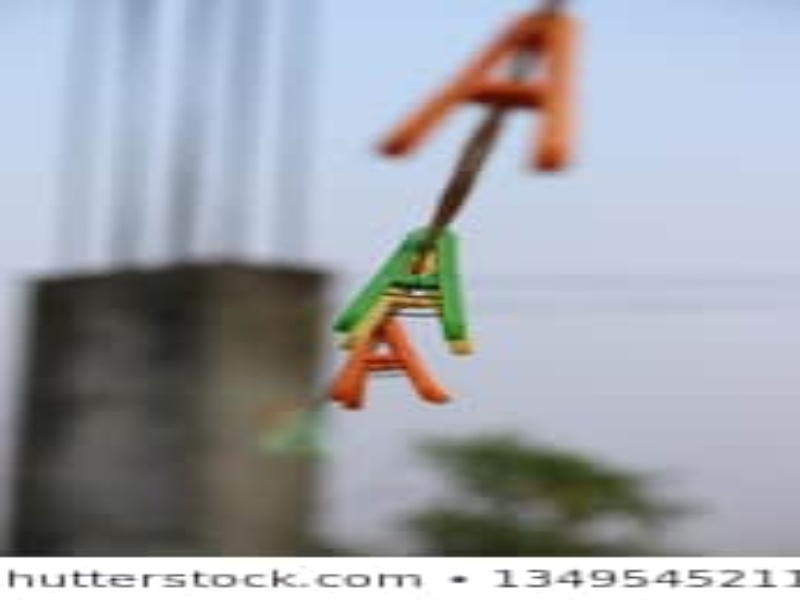plastic-peg: (374, 12, 581, 180), (338, 218, 467, 338), (316, 313, 456, 416)
